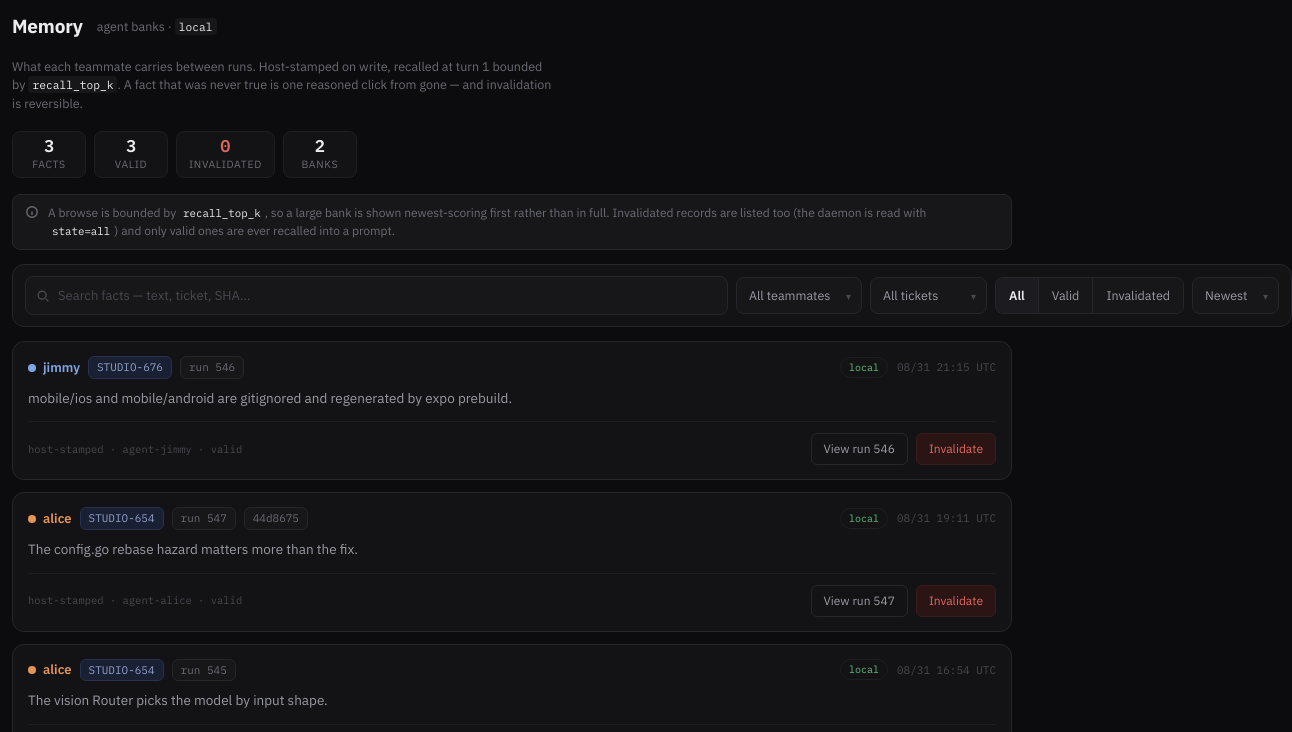
Test case: Memory page › 4.5 — Invalidate captures a reason and moves the fact to invalidated, dimmed with a banner
The image size is (1292, 732).
Click the button "Invalidate" below "08/31 19:11 UTC": (956, 601) [916,585,996,617]
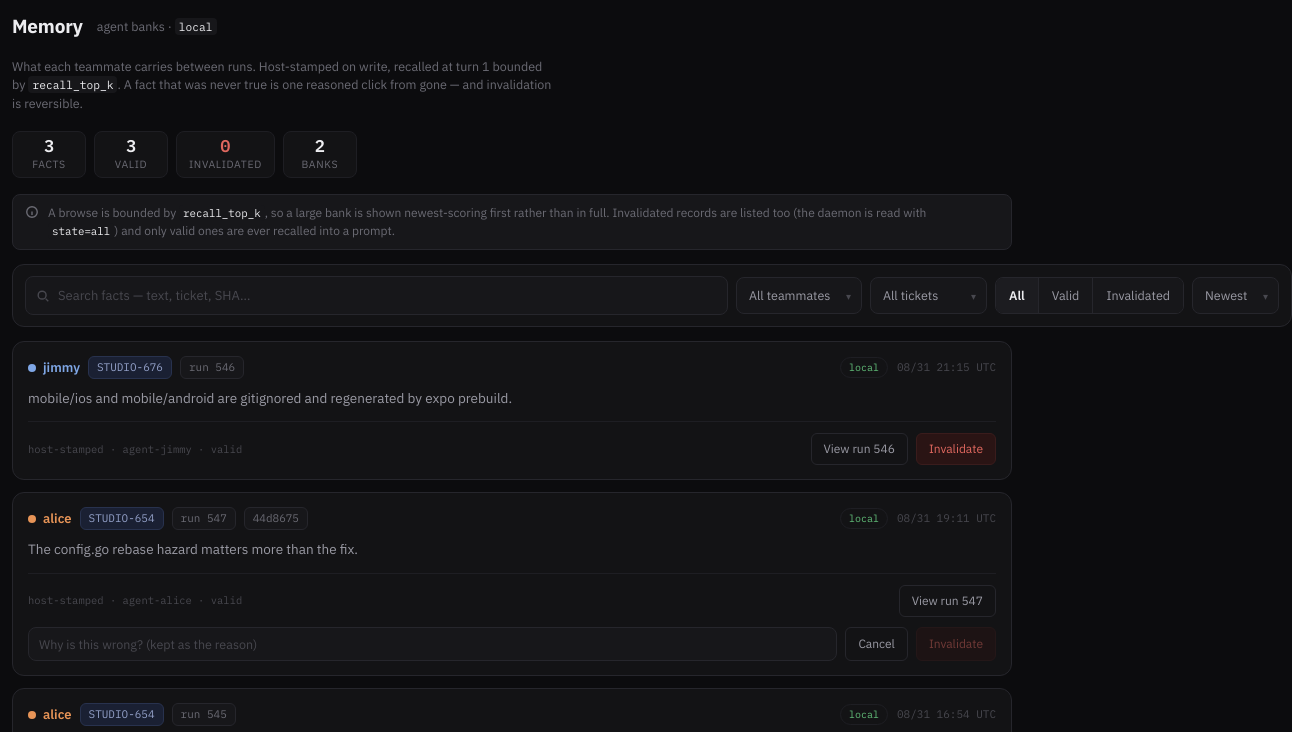
In the field labelled "Why is this wrong?": (433, 644) [28,627,837,661], type "the hazard was fixed in #229"
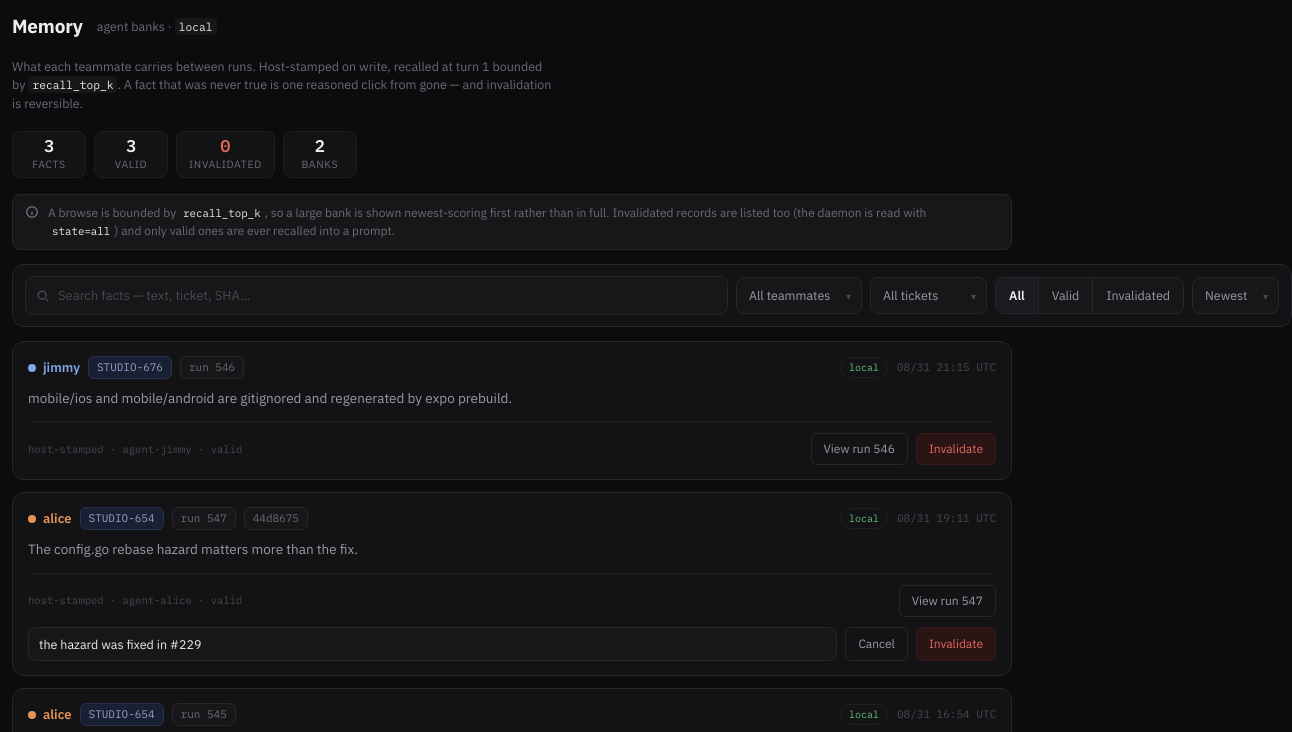
Click the button with aria-label "Confirm invalidate": (956, 644) [916,627,996,661]
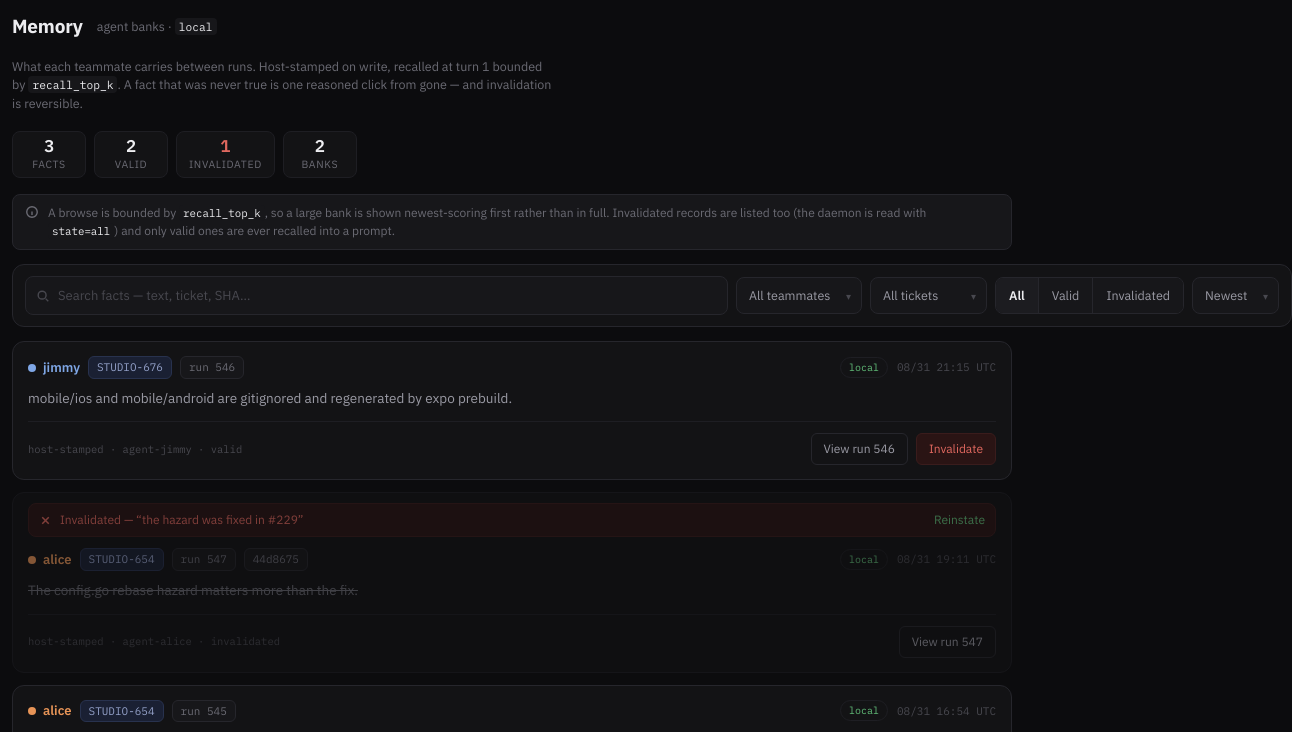
Result: the message shows "the hazard was fixed in #229" at [121,512,304,528]
